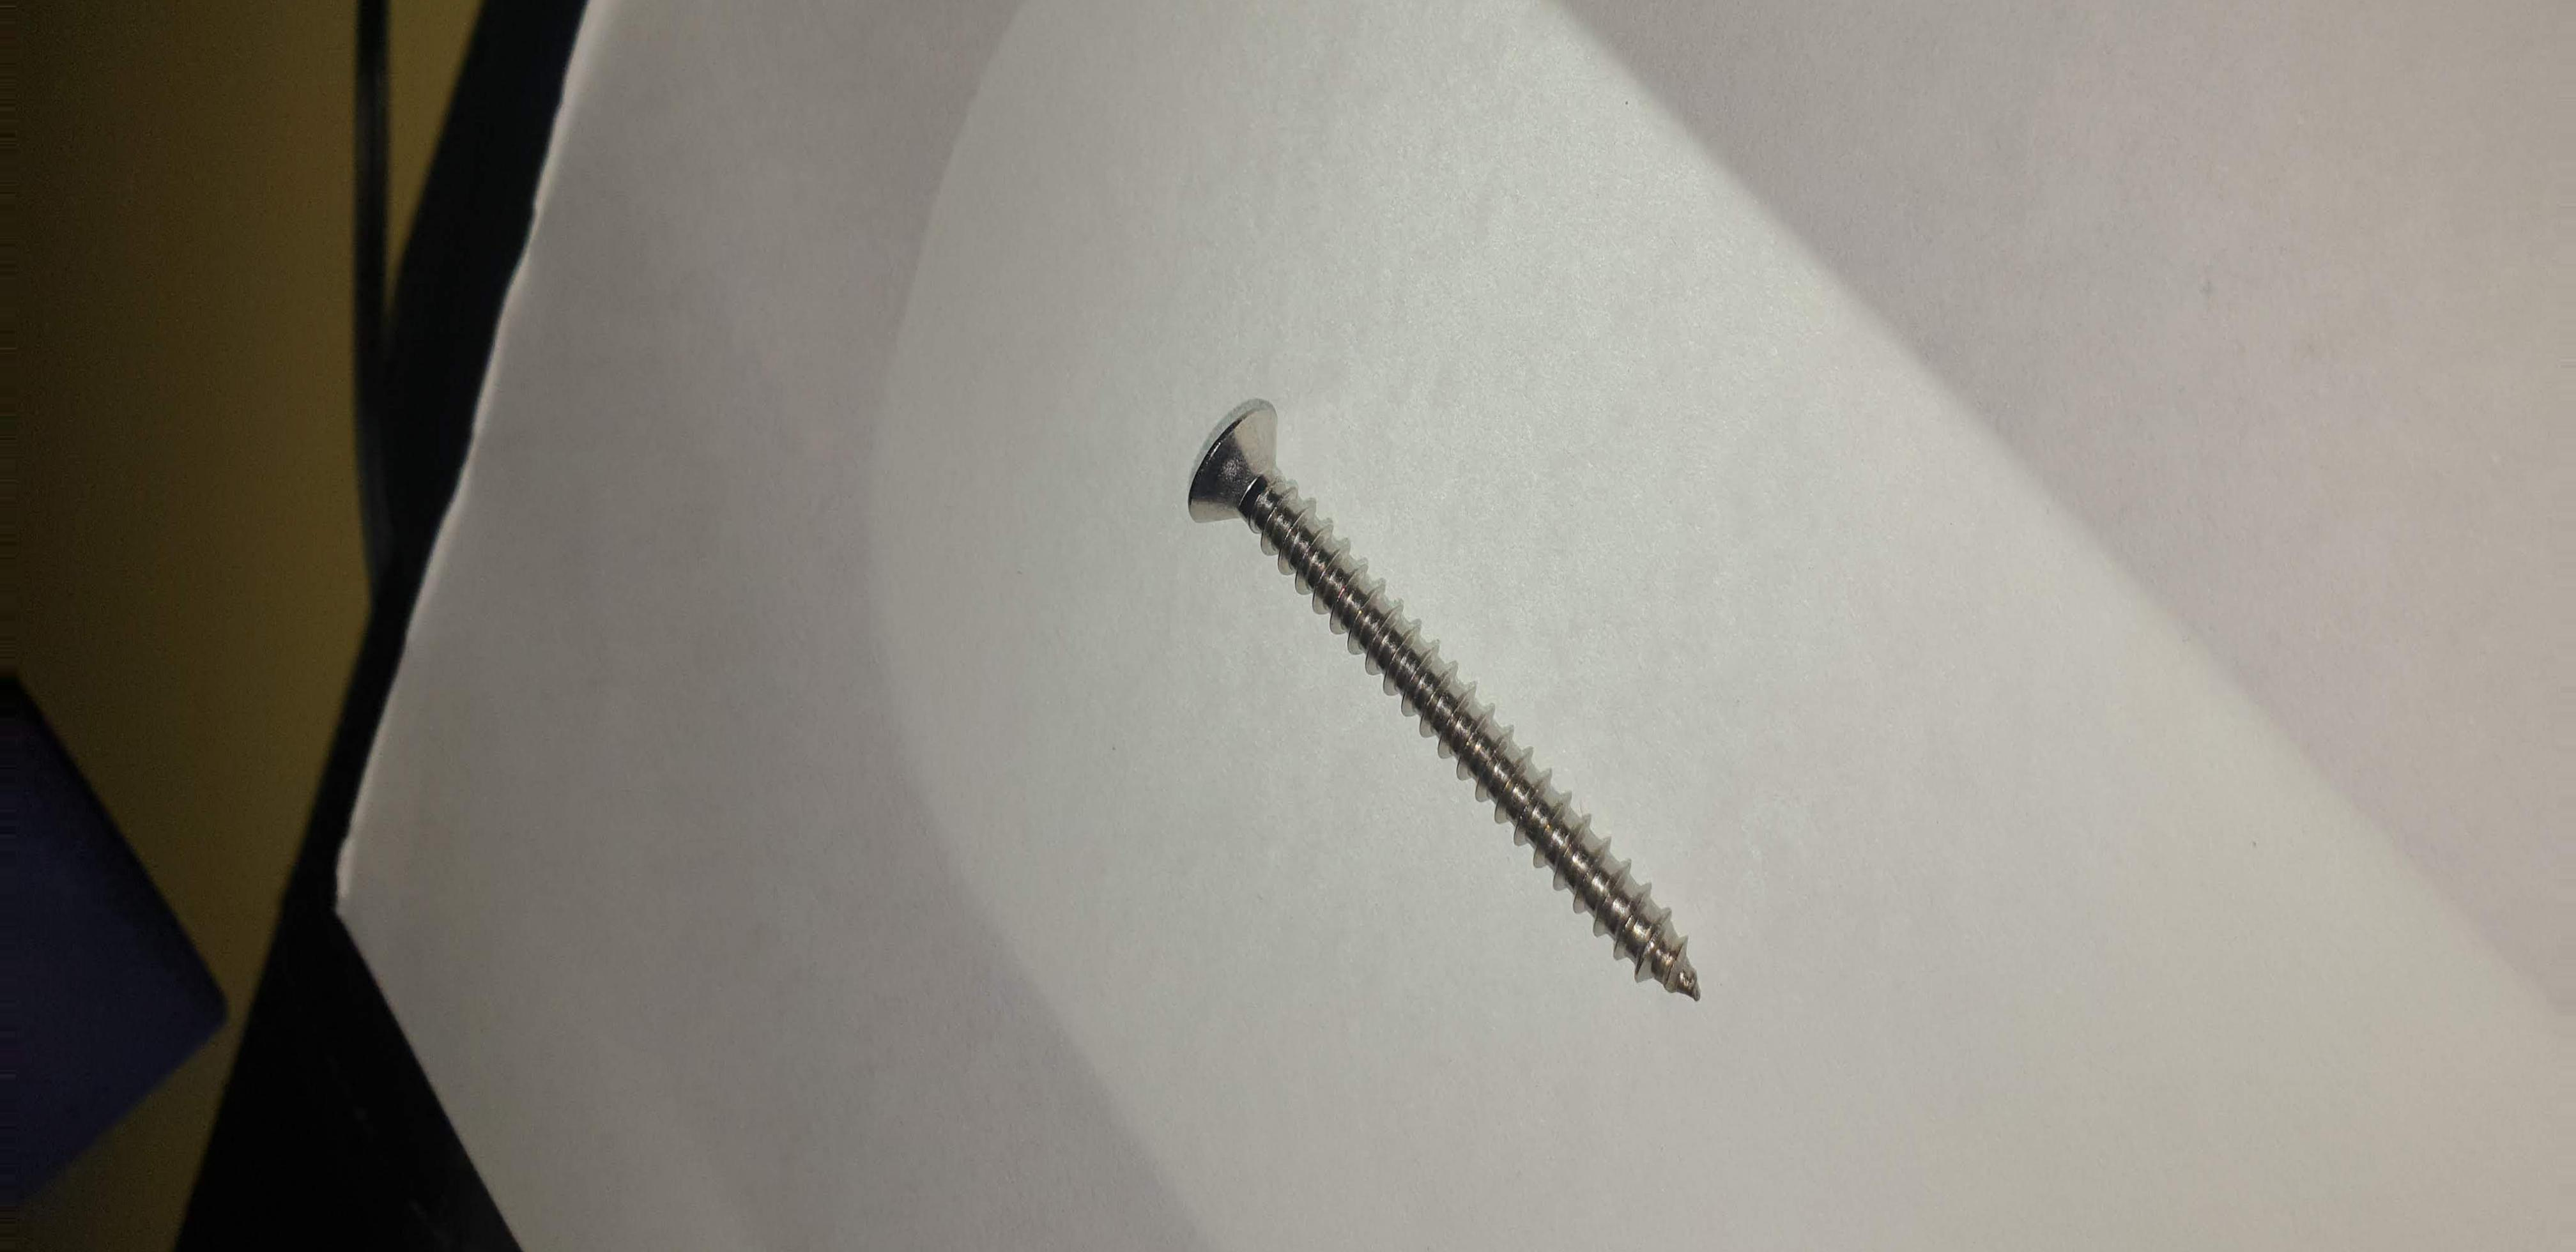fastener: (1063, 297, 1851, 1122)
